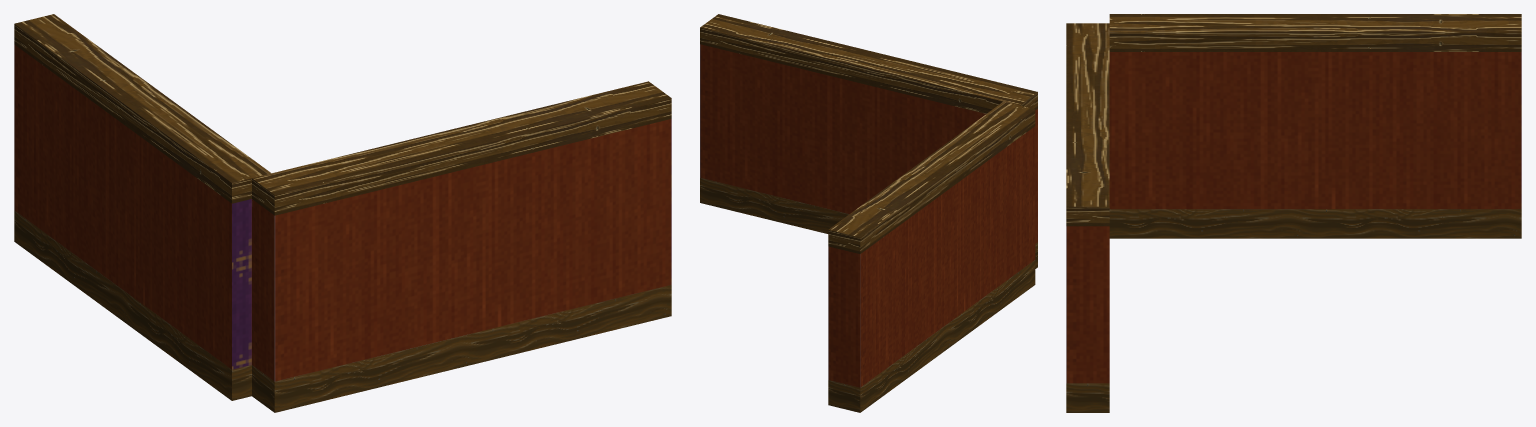
File: SM_Wall_Low_T.fbx
The picture shows the model from 3 angles, left to right: view 1: azimuth 30°, elevation 25°; view 2: azimuth 150°, elevation 25°; view 3: azimuth 270°, elevation 25°; orthographic projection. The views are drawn at different scales.
Visible parts, largest first — view 1: SM_Wall_Low_T; view 2: SM_Wall_Low_T; view 3: SM_Wall_Low_T.
Part boxes in pixels (<box>): SM_Wall_Low_T: <box>14,14,671,412</box>; SM_Wall_Low_T: <box>700,14,1037,412</box>; SM_Wall_Low_T: <box>1066,14,1521,412</box>.
Size of the model in its own units: 2.1 by 1.05 by 2.1.
